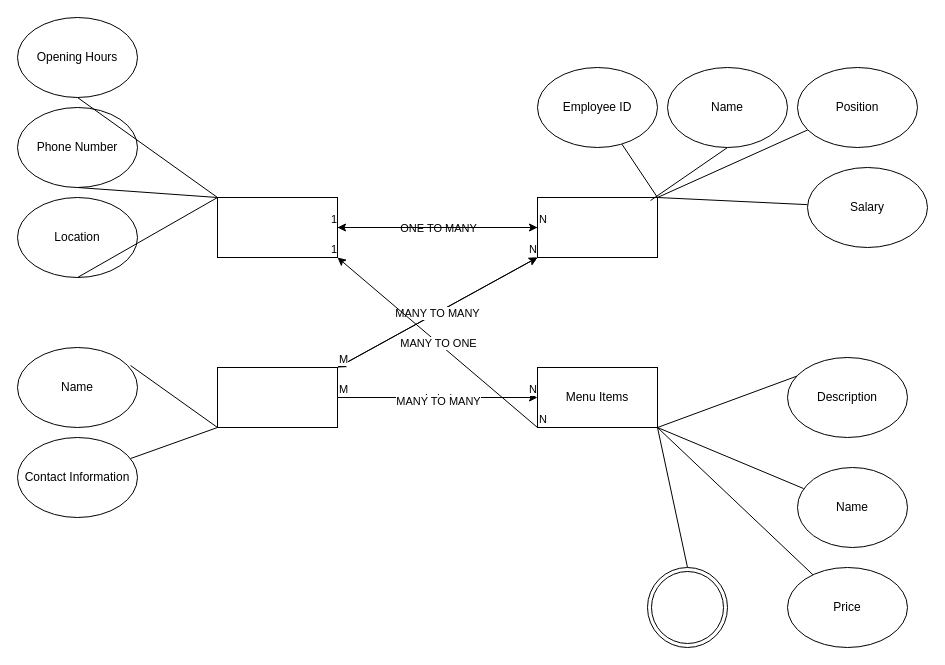
Some shapes in this 945 by 665 pixel diagram are drawn without their labels. Here are the shapes that lost their labels. From the top down, the centre of each, then its label:
At pixel 277 227: "Krusty Krab".
At pixel 597 227: "Employees".
At pixel 277 397: "Customers".
At pixel 687 607: "Ingredients".
